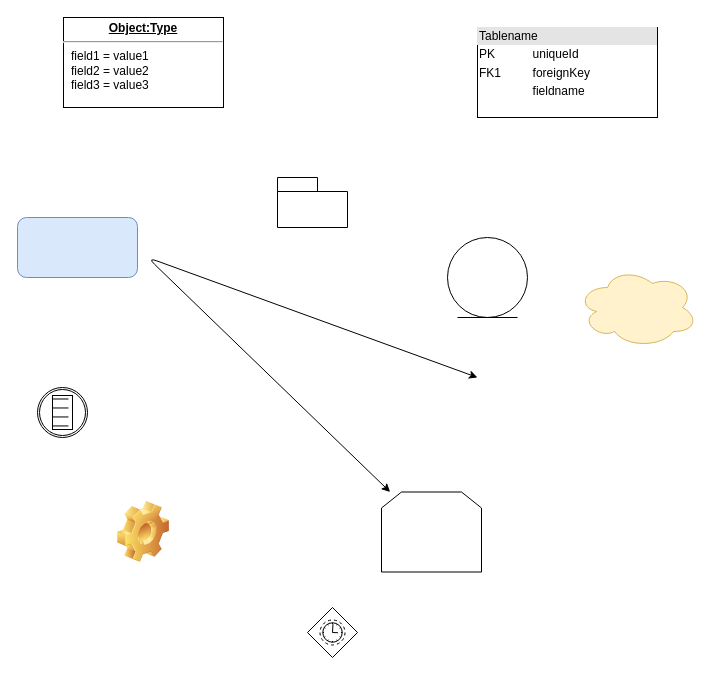
Some shapes in this 715 by 675 pixel diagram are drawn without their labels. The shapes that lost their labels are listed below. From the top down, each one's box as (x1, y1, x2, y2) in pixels, then its label:
(276, 176, 348, 228): package
(446, 236, 528, 318): Entity Object
